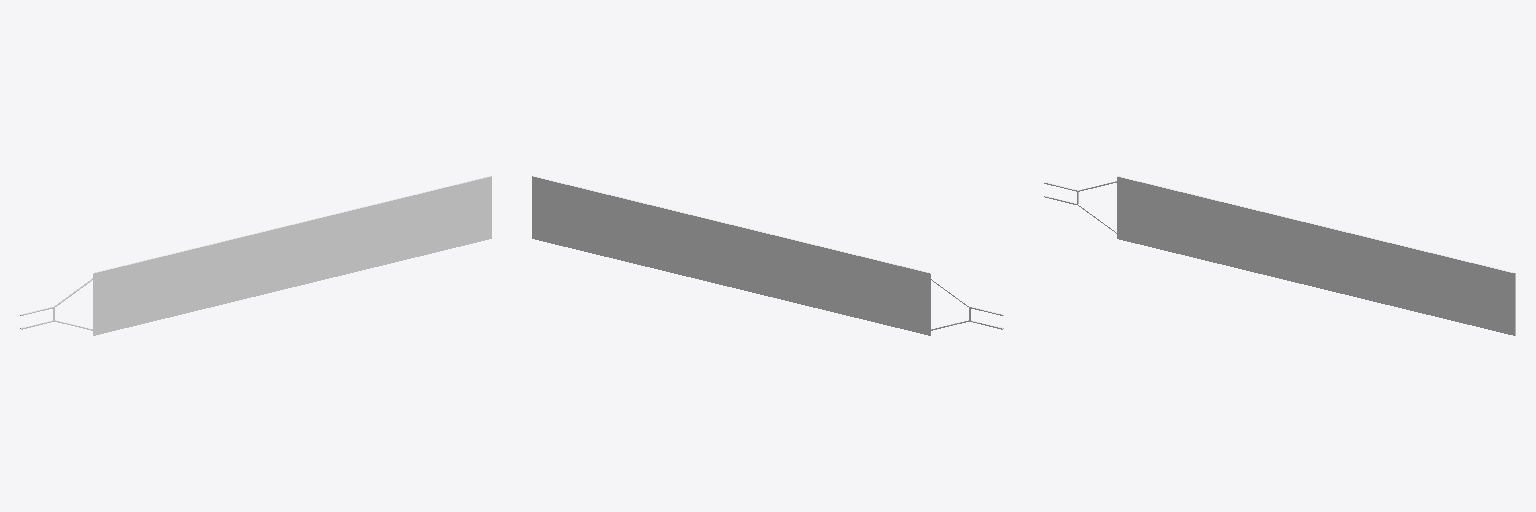
URDF robot description (board):
<?xml version="1.0" encoding="utf-8"?>
<!-- This URDF was automatically created by SolidWorks to URDF Exporter! Originally created by [author] ([email redacted]) 
     Commit Version: 1.6.0-1-g15f4949  Build Version: 1.6.7594.29634
     For more information, please see http://wiki.ros.org/sw_urdf_exporter -->
<robot
  name="board">
  <link
    name="base_link">
    <inertial>
      <origin
        xyz="-1.78977556057262 0.160294928583308 -3.28769227069136E-19"
        rpy="0 0 0" />
      <mass
        value="453.28074013745" />
      <inertia
        ixx="84.7173179966925"
        ixy="-5.37393016799413E-13"
        ixz="-1.15673388673378E-15"
        iyy="3864.81638411719"
        iyz="-1.03734924718804E-16"
        izz="3949.46571000286" />
    </inertial>
    <visual>
      <origin
        xyz="0 0 0"
        rpy="0 0 0" />
      <geometry>
        <mesh
          filename="package://board/meshes/base_link.STL" />
      </geometry>
      <material
        name="">
        <color
          rgba="1 1 1 1" />
      </material>
    </visual>
    <collision>
      <origin
        xyz="0 0 0"
        rpy="0 0 0" />
      <geometry>
        <mesh
          filename="package://board/meshes/base_link.STL" />
      </geometry>
    </collision>
  </link>
</robot>

--- Facts derived from the render (not from the file) ---
Views: 3 orthographic renders of the robot side by side, from view 1: azimuth 30°, elevation 25°; view 2: azimuth 150°, elevation 25°; view 3: azimuth 330°, elevation 25°.
Robot: board — 1 links, 0 joints (none); root link base_link; default pose: all joints at 0.
Visible links, largest first — view 1: base_link; view 2: base_link; view 3: base_link.
Link boxes in pixels (x1,y1,x2,y2): base_link: [20, 176, 491, 335]; base_link: [532, 176, 1003, 335]; base_link: [1044, 176, 1515, 335].
Size in the robot's own frame: 11.82 by 0.03 by 1.5 metres.
1 mesh visuals loaded from 1 distinct referenced files (1 binary STL).
